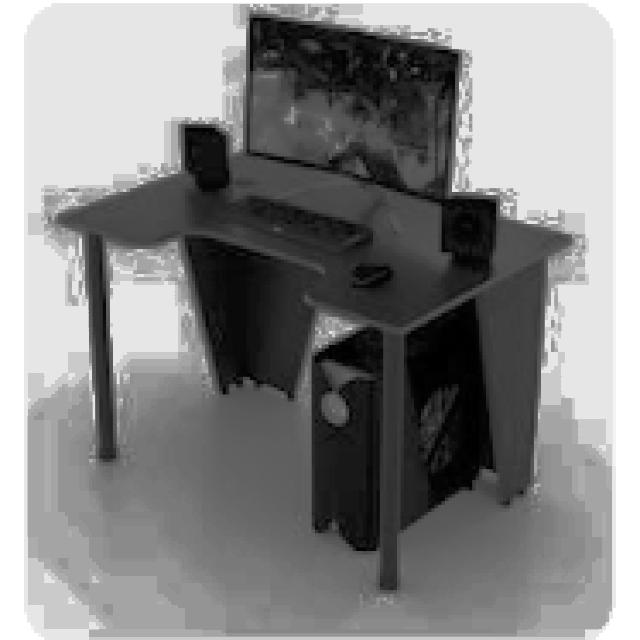table: (54, 153, 572, 590)
